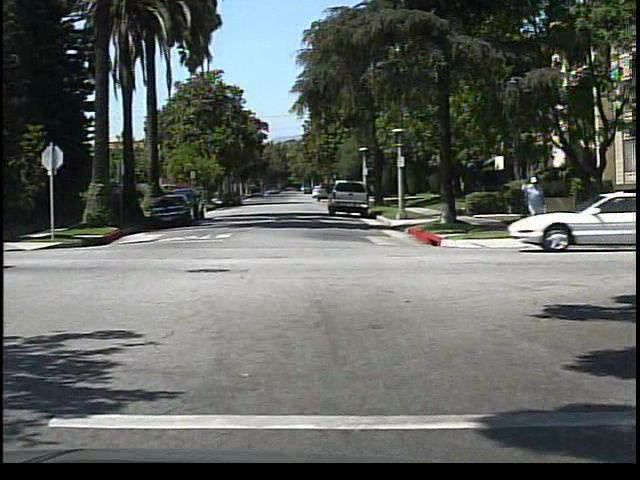person: (520, 173, 549, 222)
